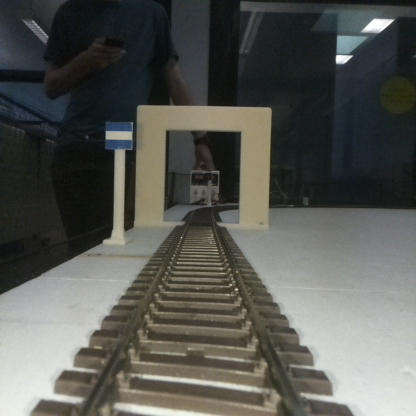start: (105, 122, 132, 242)
